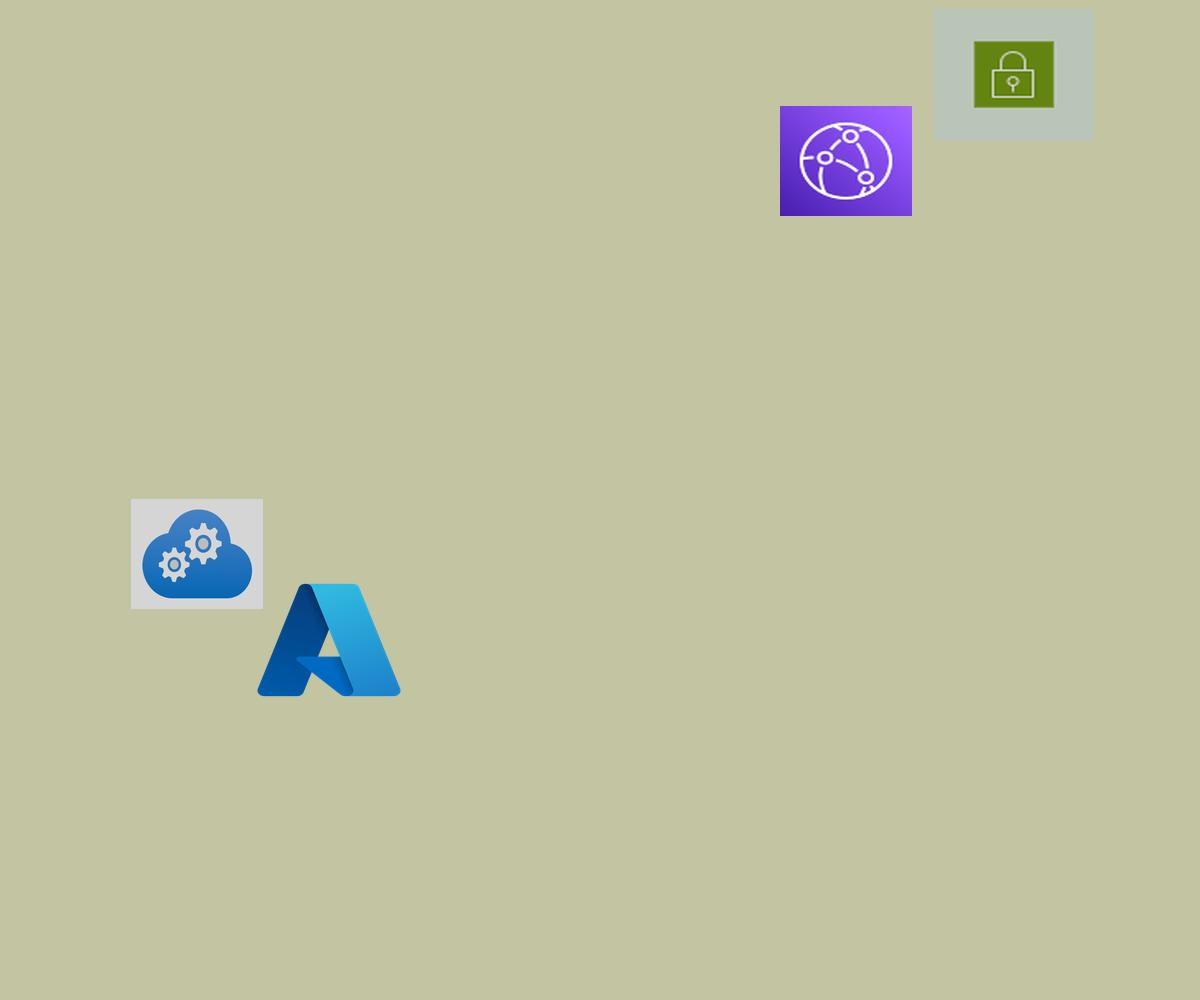AWS-CloudFront: (780, 106, 912, 216)
AWS-Public-subnet: (934, 8, 1094, 141)
Azure_cloud_services: (131, 499, 263, 609)
Azure_services: (251, 575, 407, 705)
